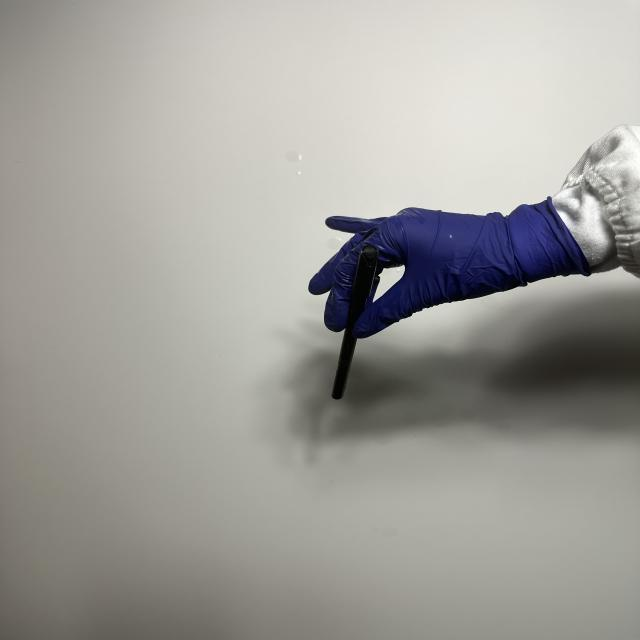gloves_contaminated: (308, 198, 590, 338)
